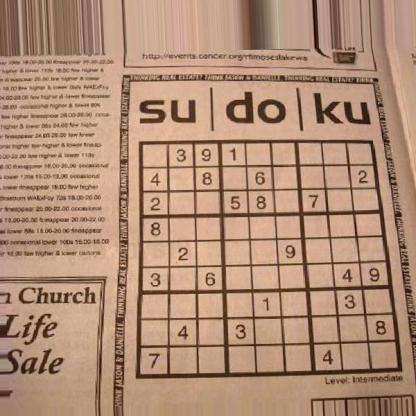sudoku: (134, 136, 406, 380)
